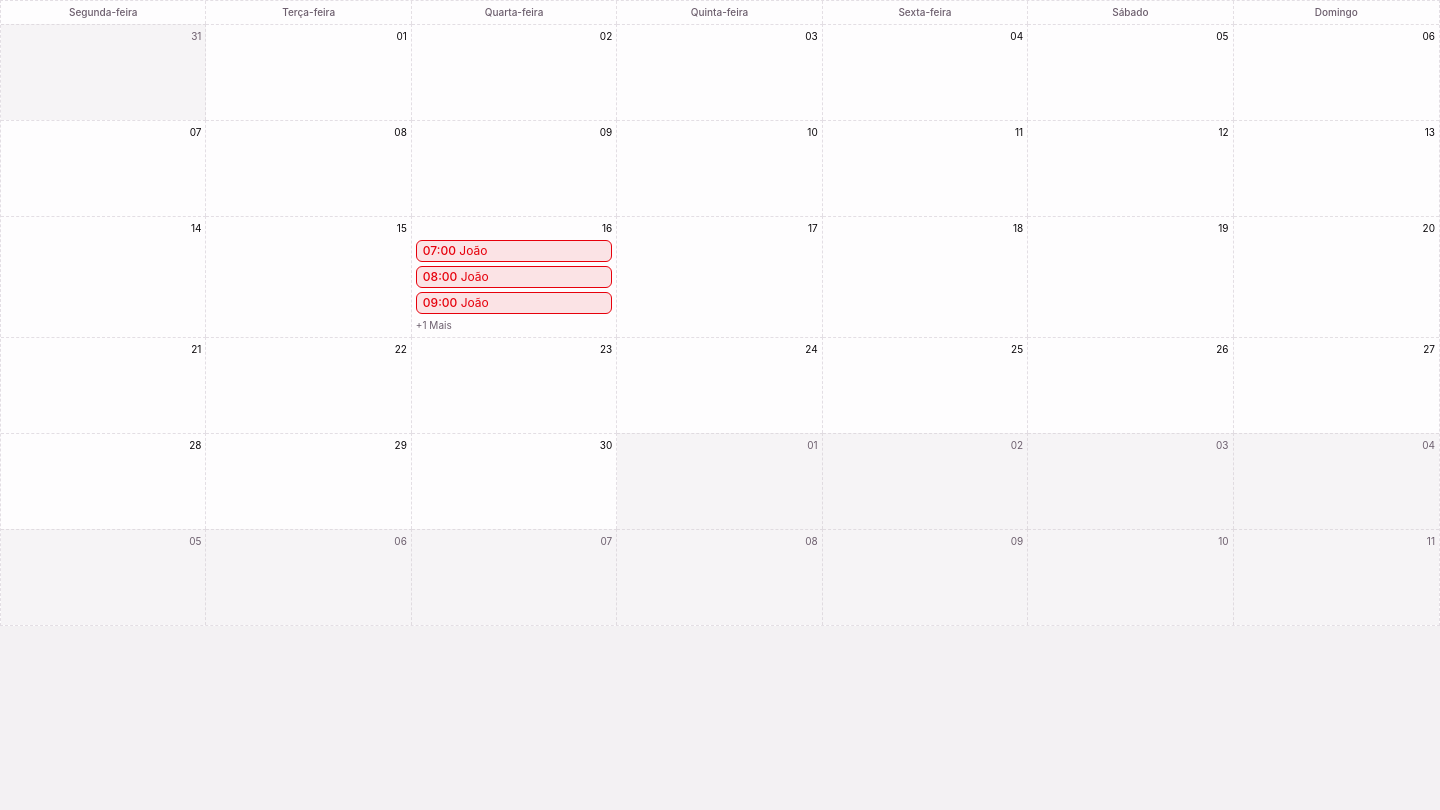
Test: MonthView (spec.md SCH-29, migração do calendário) › shows only up to 3 events per day and puts the rest behind a "+N" popover
Click the button "+1 Mais" at (514, 326), box x1=416 y1=318 x2=612 y2=333
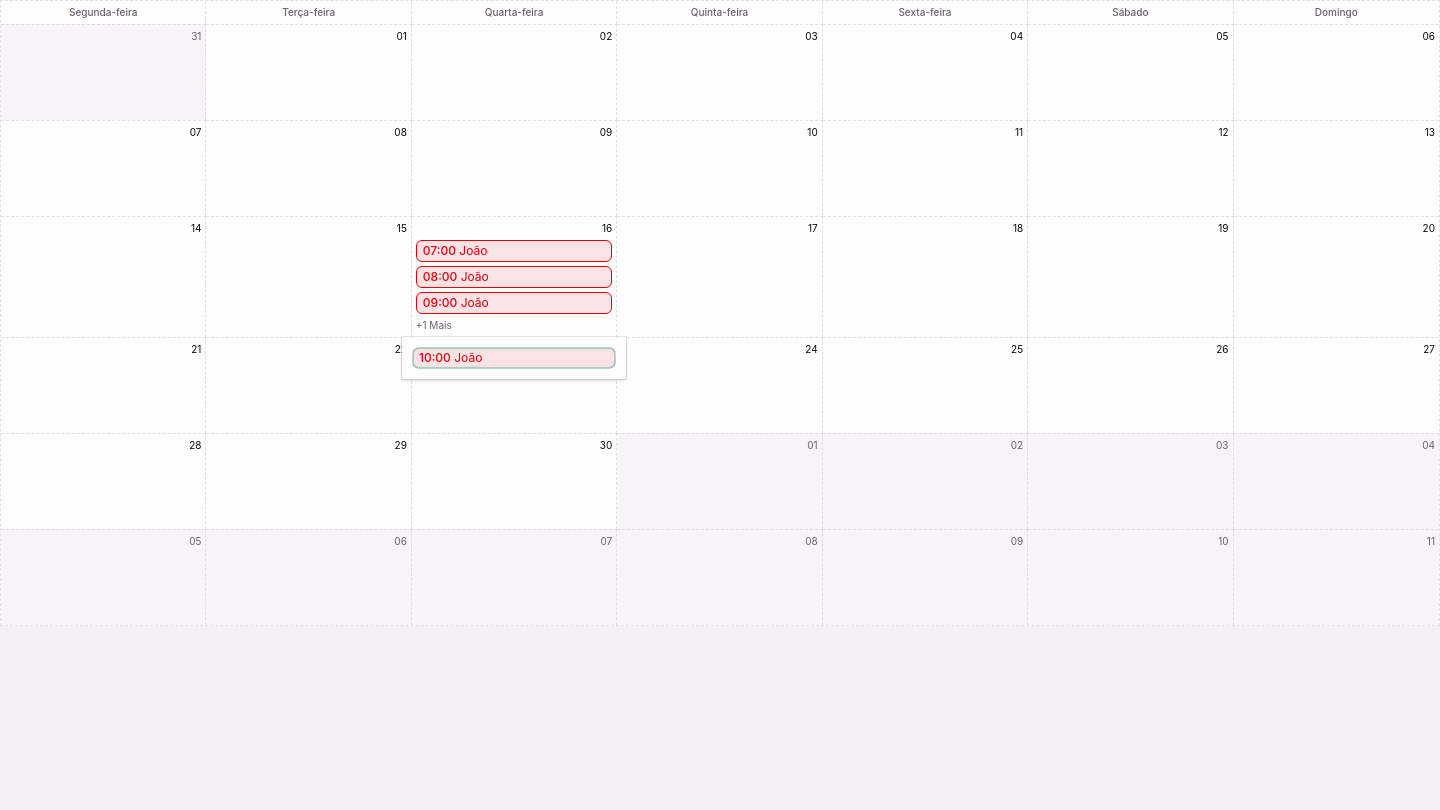
Expected: the button with test id "calendar-event-item-3" is shown, x1=412 y1=347 x2=616 y2=369
